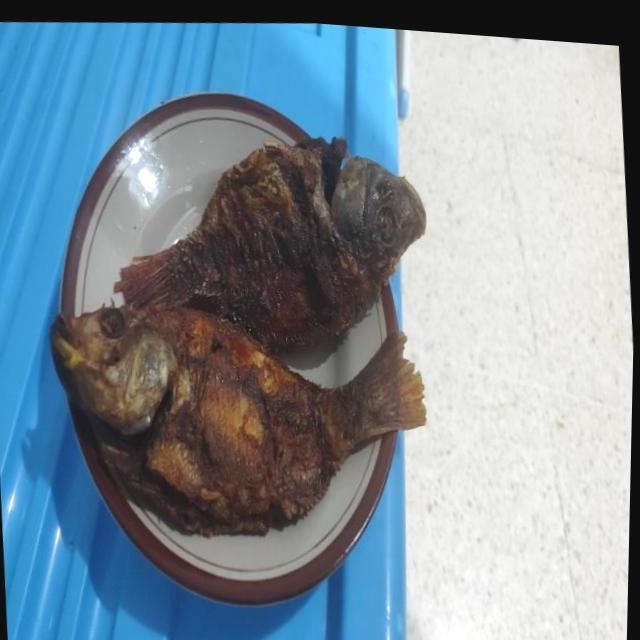ikan_mujair: (50, 304, 425, 535), (114, 143, 425, 353)
